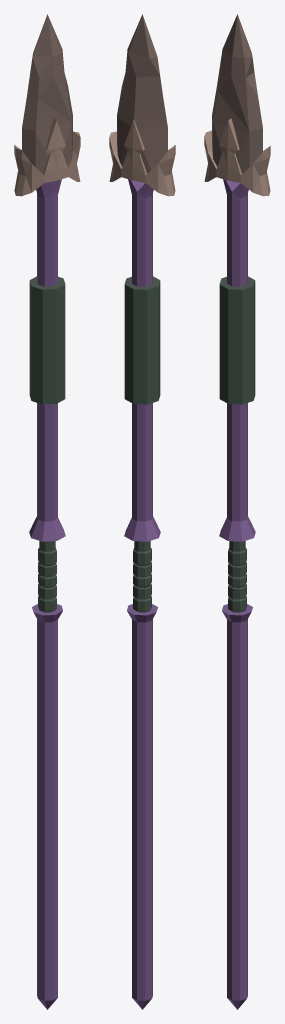
Rendered from cane-6.glb.
3 views of the same model, side by side, from view 1: azimuth 30°, elevation 25°; view 2: azimuth 150°, elevation 25°; view 3: azimuth 330°, elevation 25° (orthographic).
Visible parts, largest first — view 1: cane_6; view 2: cane_6; view 3: cane_6.
Boxes of the visible parts, x1,y1,x2,y2 form: cane_6: (14,14,80,1009); cane_6: (109,14,175,1009); cane_6: (204,14,270,1009).
Bounding box in the file's own units: 12.47 × 187 × 6.61.
1 material, 1 textured.
